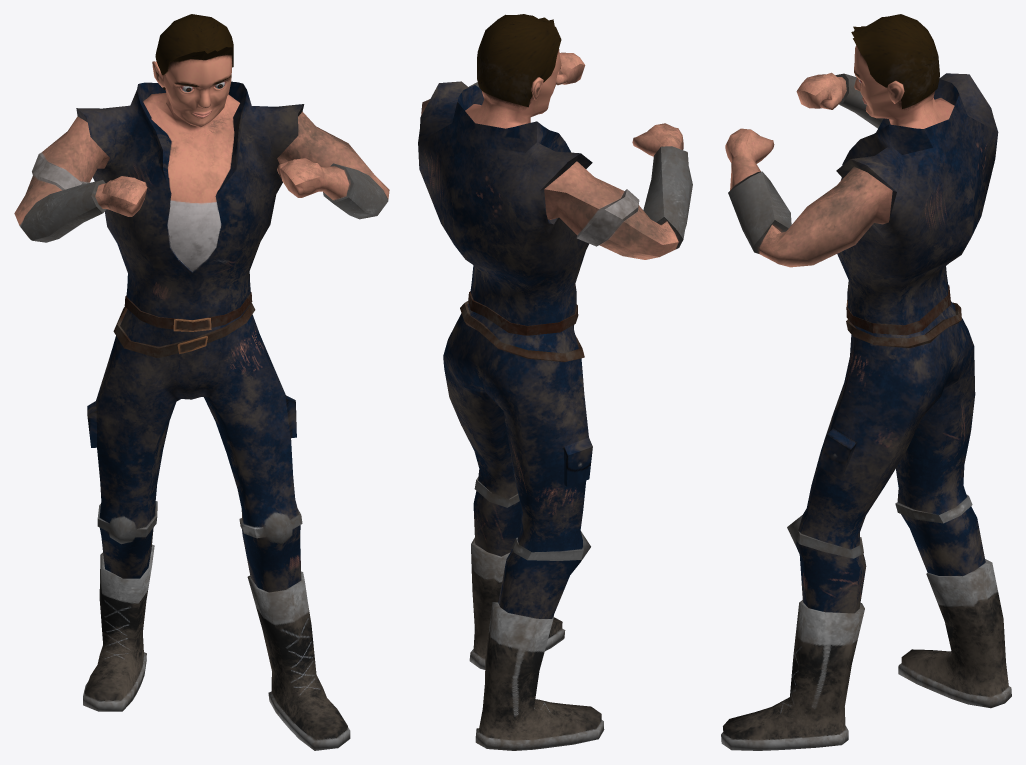
File: Anim_especial_jugador.0015.obj
The picture shows the model from 3 angles, left to right: view 1: azimuth 30°, elevation 25°; view 2: azimuth 150°, elevation 25°; view 3: azimuth 270°, elevation 25°; orthographic projection. The views are drawn at different scales.
Parts seen in each view (by area): view 1: polySurface1; view 2: polySurface1; view 3: polySurface1.
Boxes of the visible parts, box(x1,y1,x2,y2) form: polySurface1: box(14, 14, 389, 750); polySurface1: box(418, 14, 692, 750); polySurface1: box(721, 14, 1011, 750).
Bounding box in the file's own units: 4.46 × 9.54 × 3.61.
